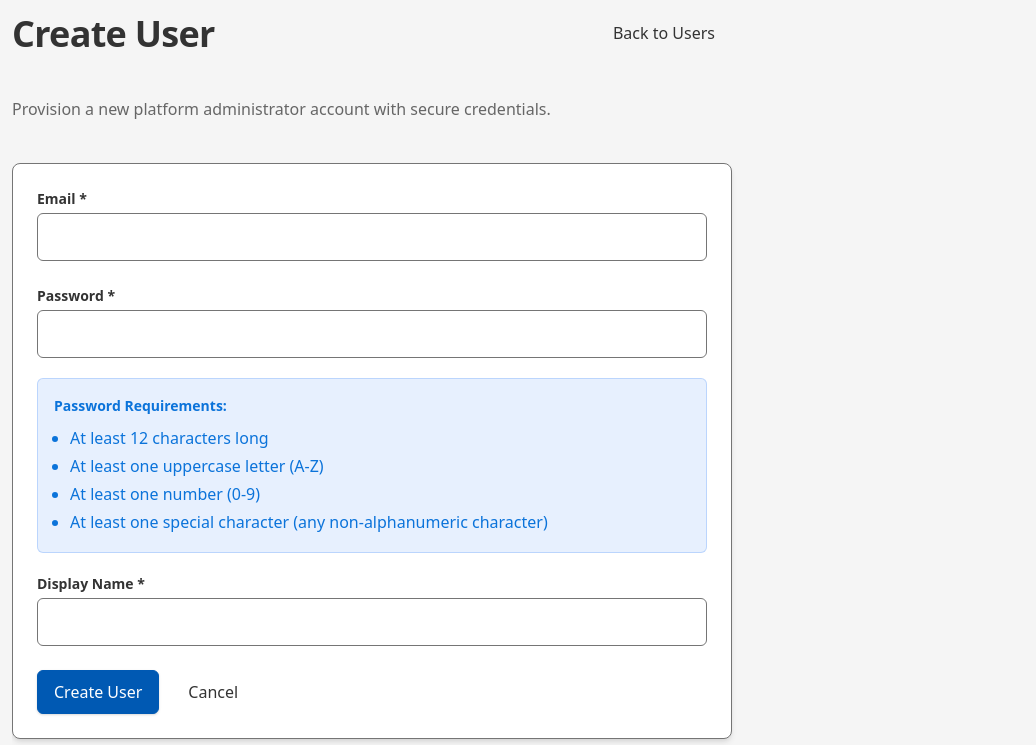
Test: UserCreatePage › displays generic error message on network error
# Fill in the form
Type "newuser@example.com" into the field labelled "Email *". click: (372, 237)
box: [37,213,707,261]
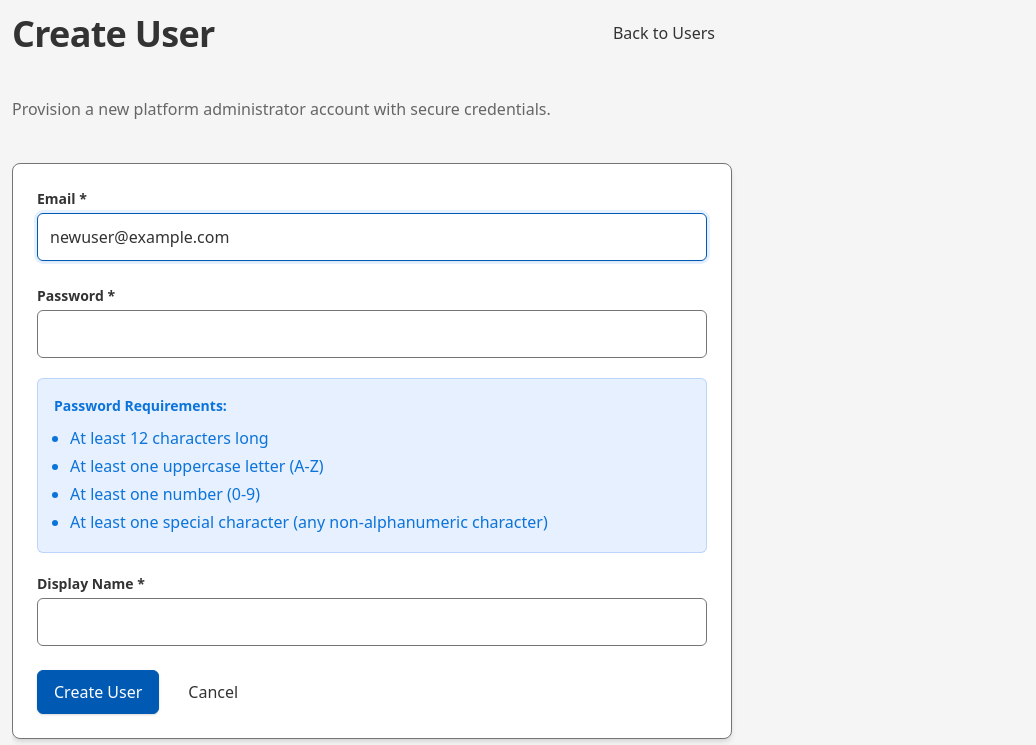
Type "Password123!" into the password field labelled "Password *". click: (372, 334)
box: [37,310,707,358]
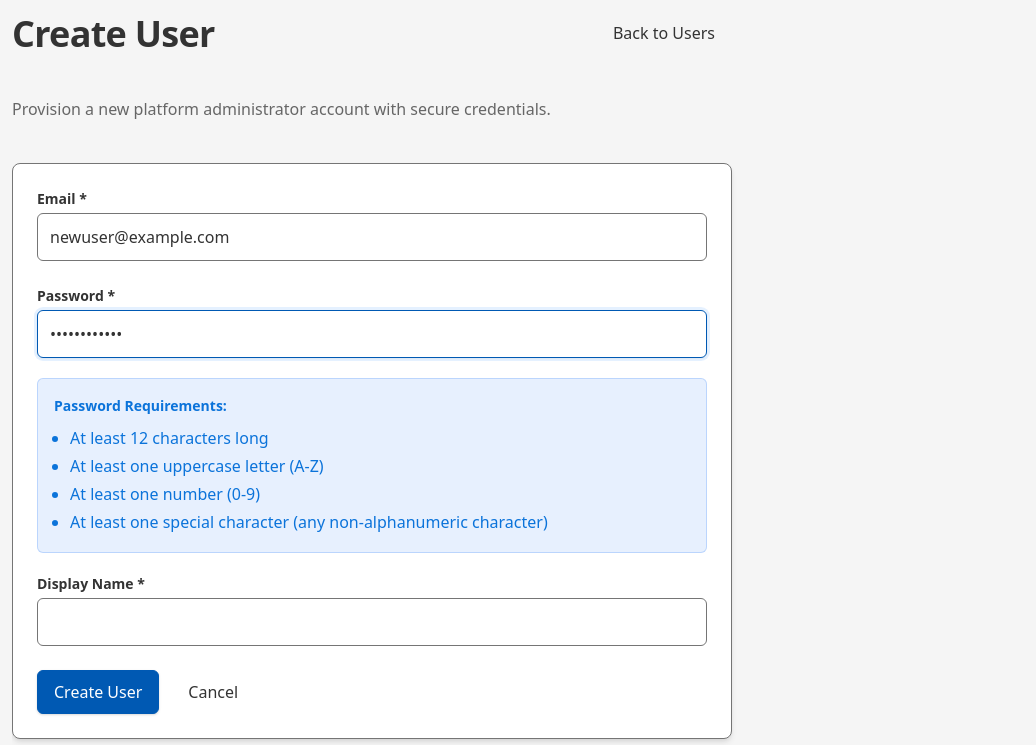
Type "New User" into the field labelled "Display Name *". click: (372, 622)
box: [37,598,707,646]
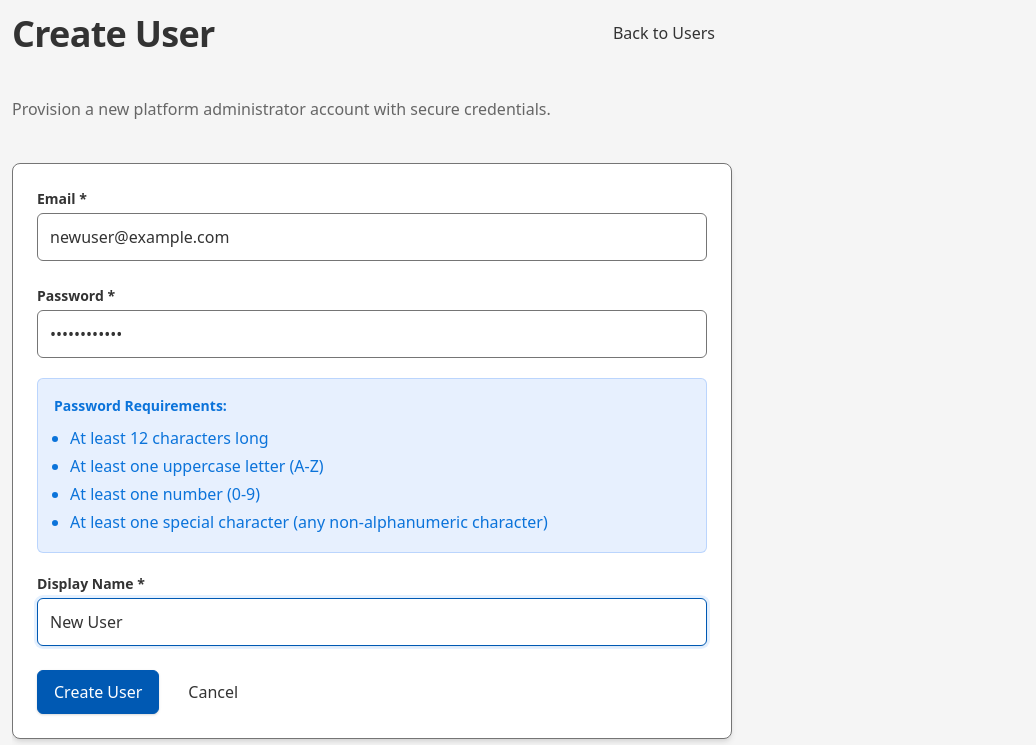
# Submit the form
Click the button "Create User". click: (98, 692)
box: [37,670,159,714]
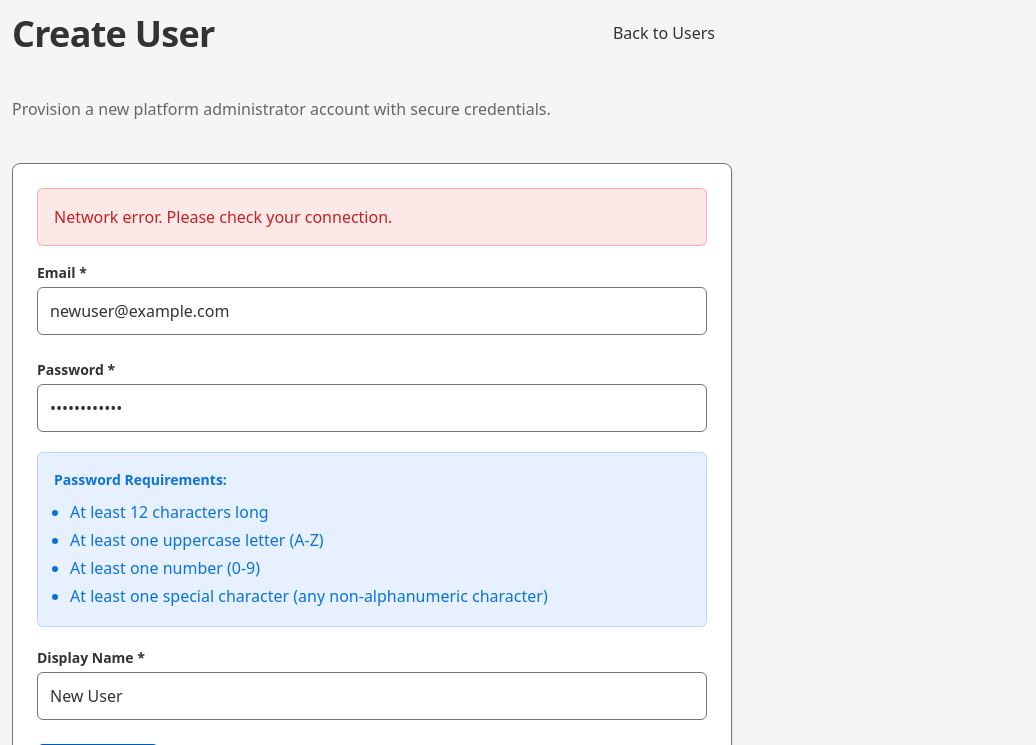
Expected: the text "Network error. Please check your connection." is shown, [37,188,707,246]
